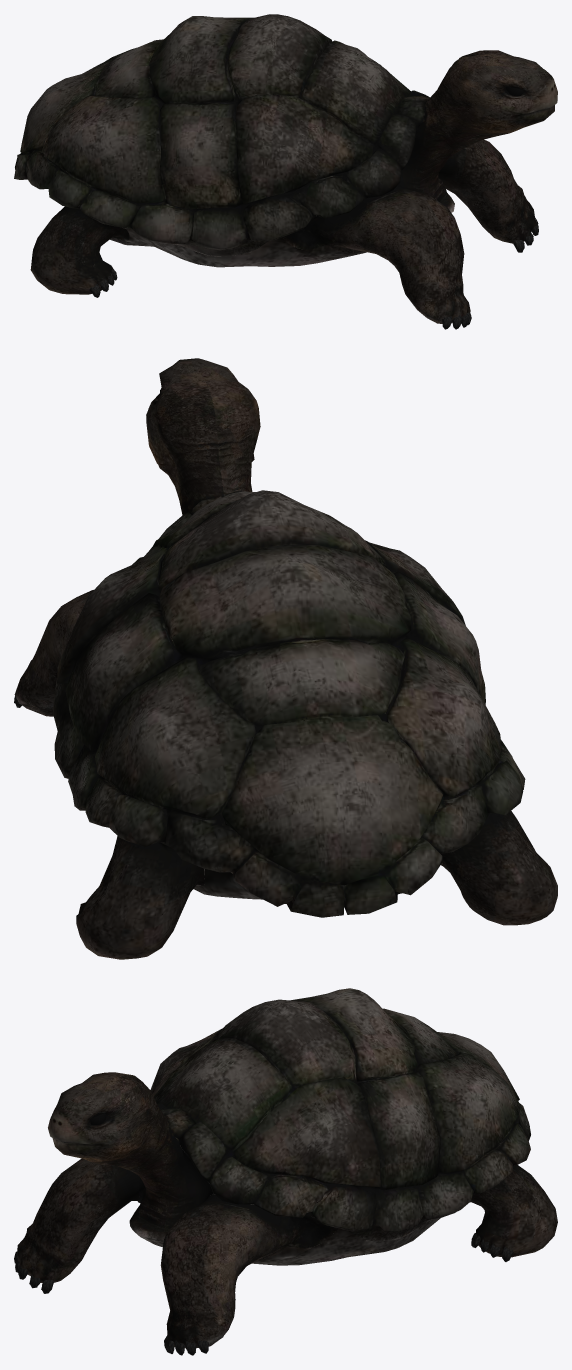
Rendered from tortoise.glb.
3 views of the same model, one above another, from view 1: azimuth 30°, elevation 25°; view 2: azimuth 150°, elevation 25°; view 3: azimuth 270°, elevation 25° (orthographic). The views are drawn at different scales.
Visible parts, largest first — view 1: tortoise; view 2: tortoise; view 3: tortoise.
Part boxes in pixels (<box>): tortoise: <box>14,14,557,329</box>; tortoise: <box>14,358,557,959</box>; tortoise: <box>14,988,557,1355</box>.
Size of the model in its own units: 0.5387 by 0.2829 by 0.55.
Materials: 3 (2 with a texture image).
